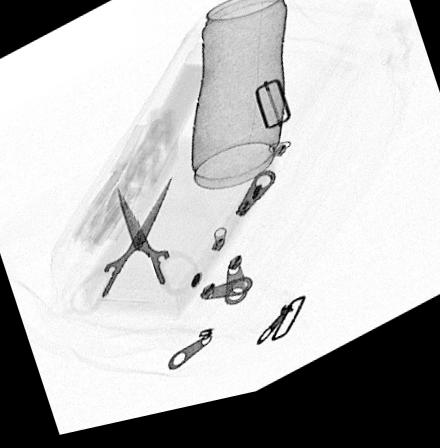Scissors: (67, 182, 198, 321)
